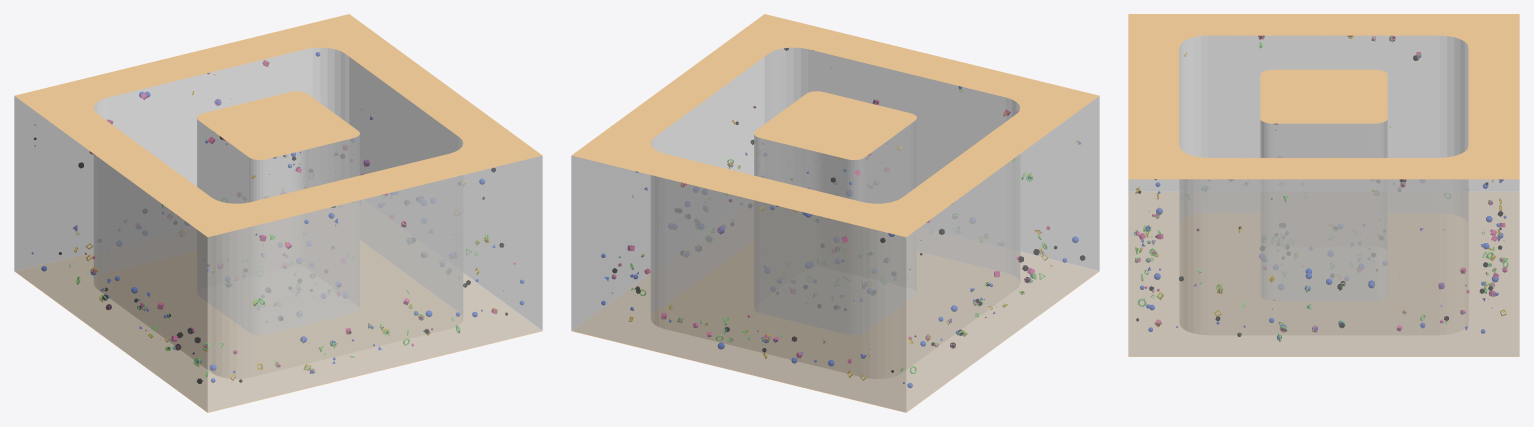
Rendered from exteriorwalls.glb.
3 renders of one model, left to right at view 1: azimuth 30°, elevation 25°; view 2: azimuth 150°, elevation 25°; view 3: azimuth 270°, elevation 25°, orthographic.
Visible parts, largest first — view 1: Exterior wall volume, Ceiling, Flloor, Icosphere.071; view 2: Exterior wall volume, Ceiling, Flloor, Icosphere.071; view 3: Exterior wall volume, Flloor, Ceiling, Icosphere.071.
Boxes of the visible parts, bbox=[...] form: Exterior wall volume: bbox=[14, 47, 542, 412]; Ceiling: bbox=[14, 14, 542, 237]; Flloor: bbox=[14, 240, 542, 412]; Icosphere.071: bbox=[31, 52, 524, 383]; Exterior wall volume: bbox=[571, 47, 1099, 412]; Ceiling: bbox=[571, 14, 1099, 237]; Flloor: bbox=[571, 240, 1099, 412]; Icosphere.071: bbox=[601, 48, 1085, 387]; Exterior wall volume: bbox=[1128, 35, 1519, 356]; Flloor: bbox=[1128, 192, 1519, 356]; Ceiling: bbox=[1128, 14, 1519, 179]; Icosphere.071: bbox=[1133, 35, 1508, 341].
Size of the model in its own units: 52.82 by 36.19 by 52.82.
7 materials, 1 textured.
